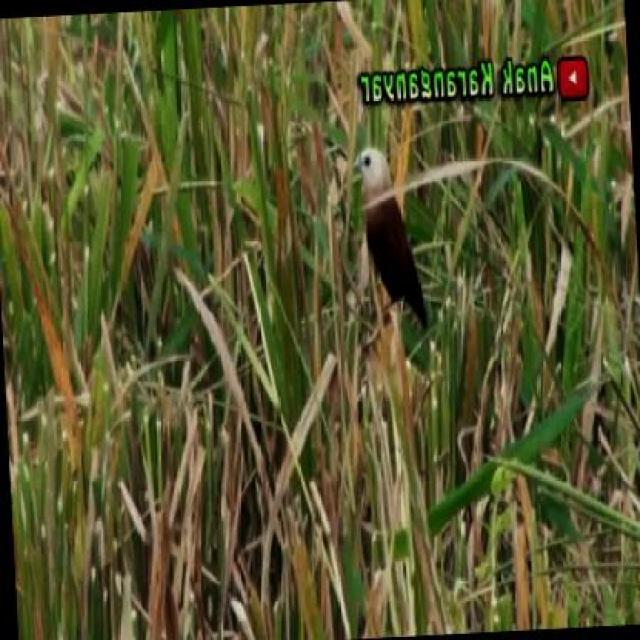Bird: (342, 139, 433, 338)
